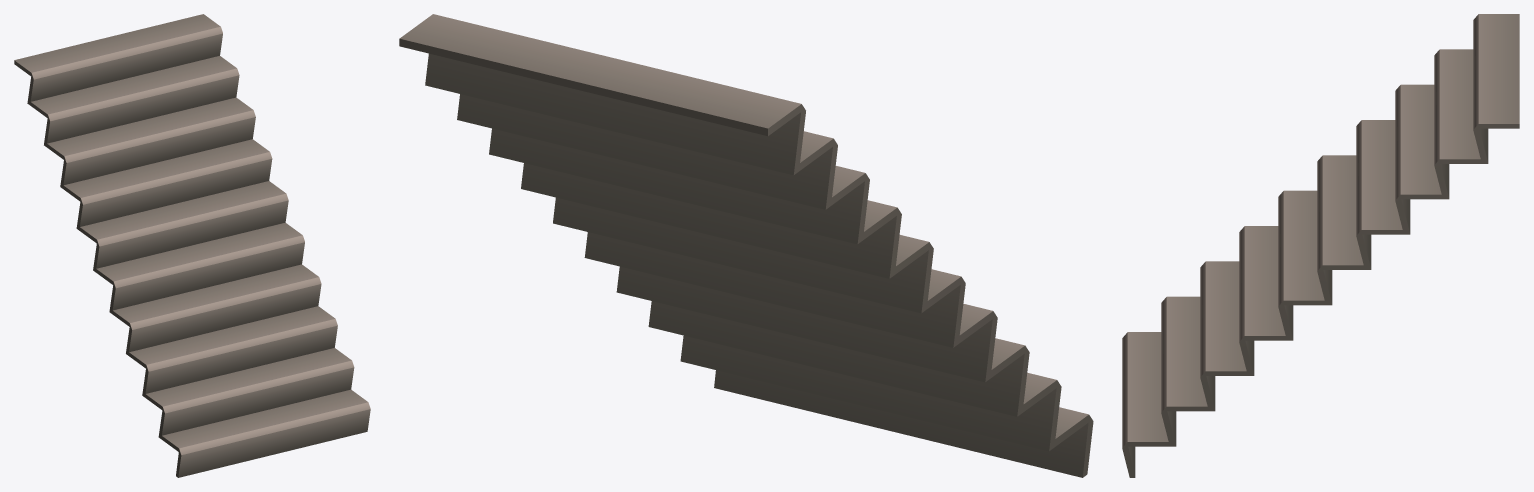
The model's file is TSP_House_Stairs_02A.fbx.
The picture shows the model from 3 angles, left to right: view 1: azimuth 30°, elevation 25°; view 2: azimuth 150°, elevation 25°; view 3: azimuth 270°, elevation 25°; orthographic projection. The views are drawn at different scales.
Visible parts, largest first — view 1: TSP_House_Stairs_02A; view 2: TSP_House_Stairs_02A; view 3: TSP_House_Stairs_02A.
Part boxes in pixels (x1,y1,x2,y2): TSP_House_Stairs_02A: (14, 14, 370, 477); TSP_House_Stairs_02A: (399, 14, 1093, 477); TSP_House_Stairs_02A: (1122, 14, 1519, 477).
Bounding box in the file's own units: 2 × 3.01 × 3.06.
